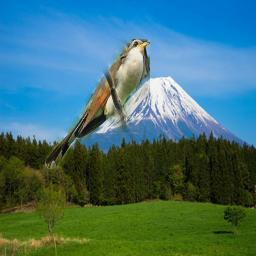Cuckoo: (45, 39, 150, 169)
